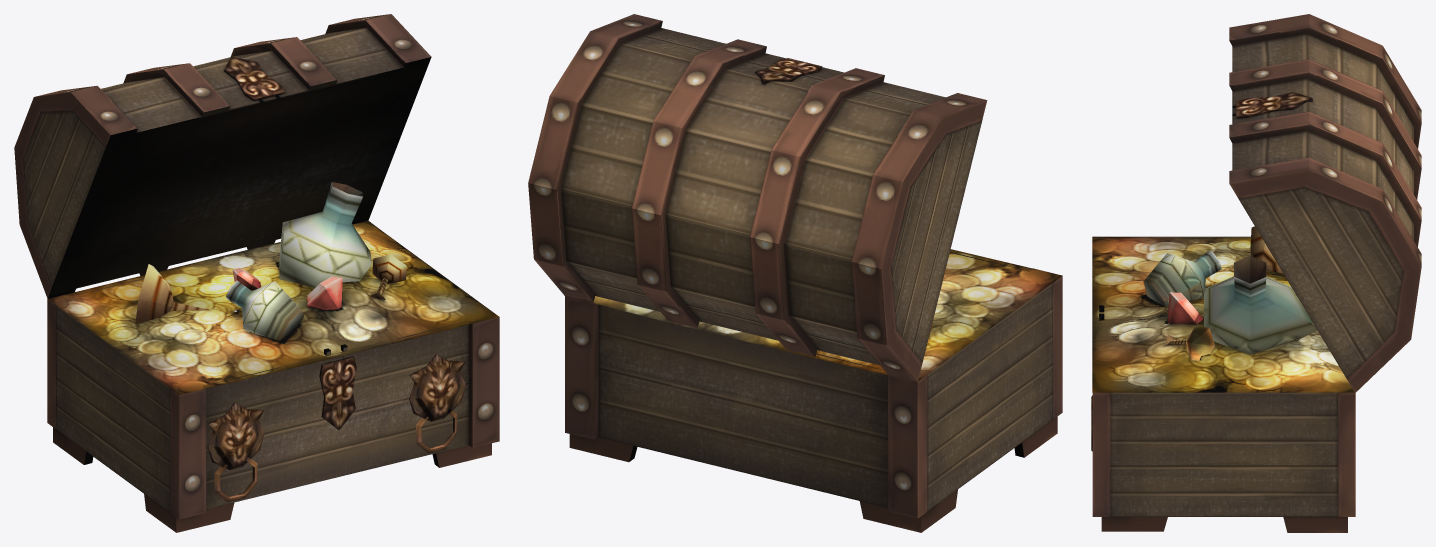
The model's file is MedievalChest_02_open.fbx.
The picture shows the model from 3 angles, left to right: view 1: azimuth 30°, elevation 25°; view 2: azimuth 150°, elevation 25°; view 3: azimuth 270°, elevation 25°; orthographic projection. The views are drawn at different scales.
Visible parts, largest first — view 1: Medieval_chest_02_open, Truesure2; view 2: Medieval_chest_02_open, Truesure2; view 3: Medieval_chest_02_open, Truesure2.
Part boxes in pixels (x1=…): Medieval_chest_02_open: x1=14, y1=14, x2=499, y2=532; Truesure2: x1=48, y1=182, x2=499, y2=394; Medieval_chest_02_open: x1=528, y1=14, x2=1062, y2=532; Truesure2: x1=593, y1=249, x2=1062, y2=381; Medieval_chest_02_open: x1=1091, y1=14, x2=1421, y2=532; Truesure2: x1=1092, y1=226, x2=1354, y2=393.
Bounding box in the file's own units: 30.51 × 33.08 × 27.27.
